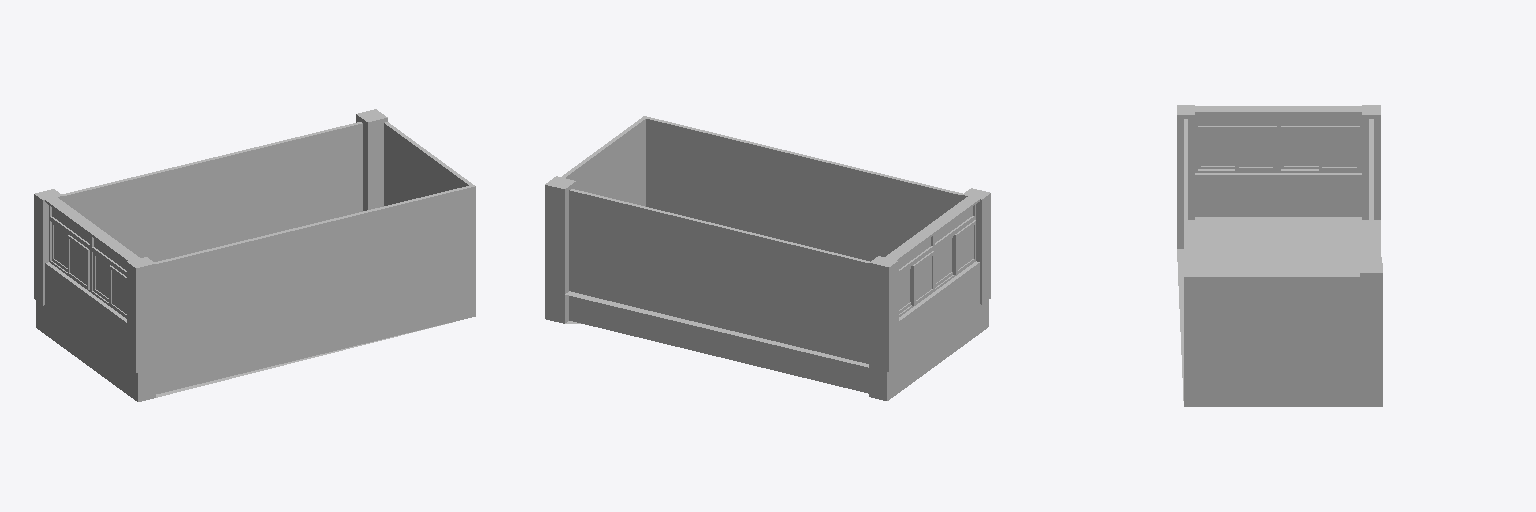
The picture shows the model from 3 angles: view 1: azimuth 30°, elevation 25°; view 2: azimuth 150°, elevation 25°; view 3: azimuth 270°, elevation 25°; orthographic projection.
Parts seen in each view (by area): view 1: Mesh4 Group4 Model, Mesh3 Group3 Model, Mesh26 Group15 Model, Mesh25 Group14 Model, Mesh1 Group1 Model, Mesh2 Group2 Model, Mesh5 Group5 Model, Mesh24 Group13 Model, Mesh15 Glazing3 Window_Sliding_Casement_4_1 Window_Sliding_2_1 G; view 2: Mesh3 Group3 Model, Mesh4 Group4 Model, Mesh26 Group15 Model, Mesh25 Group14 Model, Mesh1 Group1 Model, Mesh24 Group13 Model, Mesh5 Group5 Model, Mesh2 Group2 Model, Mesh15 Glazing3 Window_Sliding_Casement_4_1 Window_Sliding_2_1 G, Mesh19 Glazing5 Window_Sliding_Casement_4_2 Window_Sliding_2_2 G, Mesh22 Glazing7 Window_Sliding_Casement_4_3 Window_Sliding_2_2 G; view 3: Mesh1 Group1 Model, Mesh26 Group15 Model, Mesh25 Group14 Model, Mesh2 Group2 Model, Mesh24 Group13 Model, Mesh14 Glazing2 Window_Sliding_Casement_4_1 Window_Sliding_2_1 G, Mesh21 Glazing6 Window_Sliding_Casement_4_3 Window_Sliding_2_2 G, Mesh11 Glazing Window_Sliding_Casement_4 Window_Sliding_2_1 Grou, Mesh18 Glazing4 Window_Sliding_Casement_4_2 Window_Sliding_2_2 G, Mesh5 Group5 Model, Mesh7 Group9 Group7 Group6 Model, Mesh9 Group12 Group10 Group6 Model (+5 smaller).
Part boxes in pixels (x1,y1,x2,y2): Mesh4 Group4 Model: (155,186,471,364); Mesh3 Group3 Model: (62,122,362,261); Mesh26 Group15 Model: (150,287,475,398); Mesh25 Group14 Model: (36,191,149,401); Mesh1 Group1 Model: (384,122,475,287); Mesh2 Group2 Model: (127,257,155,372); Mesh5 Group5 Model: (356,109,387,210); Mesh24 Group13 Model: (34,189,62,305); Mesh15 Glazing3 Window_Sliding_Casement_4_1 Window_Sliding_2_1 G: (70,240,86,284); Mesh3 Group3 Model: (569,189,869,363); Mesh4 Group4 Model: (646,117,962,261); Mesh26 Group15 Model: (545,290,874,397); Mesh25 Group14 Model: (875,190,988,400); Mesh1 Group1 Model: (545,116,646,290); Mesh24 Group13 Model: (869,256,898,371); Mesh5 Group5 Model: (545,176,575,294); Mesh2 Group2 Model: (962,188,990,304); Mesh15 Glazing3 Window_Sliding_Casement_4_1 Window_Sliding_2_1 G: (916,256,931,299); Mesh19 Glazing5 Window_Sliding_Casement_4_2 Window_Sliding_2_2 G: (936,239,951,282); Mesh22 Glazing7 Window_Sliding_Casement_4_3 Window_Sliding_2_2 G: (958,226,973,269); Mesh1 Group1 Model: (1184,275,1382,377); Mesh26 Group15 Model: (1177,217,1382,406); Mesh25 Group14 Model: (1177,106,1380,216); Mesh2 Group2 Model: (1177,105,1194,219); Mesh24 Group13 Model: (1362,105,1380,219); Mesh14 Glazing2 Window_Sliding_Casement_4_1 Window_Sliding_2_1 G: (1284,132,1318,165); Mesh21 Glazing6 Window_Sliding_Casement_4_3 Window_Sliding_2_2 G: (1201,132,1234,165); Mesh11 Glazing Window_Sliding_Casement_4 Window_Sliding_2_1 Grou: (1322,134,1356,166); Mesh18 Glazing4 Window_Sliding_Casement_4_2 Window_Sliding_2_2 G: (1239,134,1272,166); Mesh5 Group5 Model: (1360,263,1382,377); Mesh7 Group9 Group7 Group6 Model: (1281,114,1359,125); Mesh9 Group12 Group10 Group6 Model: (1198,114,1276,125).
Size of the model in its own units: 8.55 by 3.2 by 4.45.